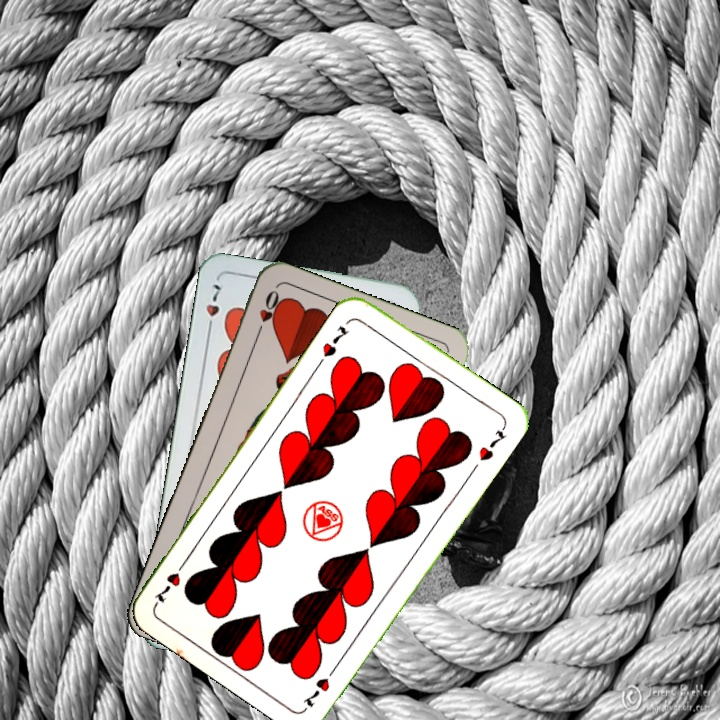H7: (298, 660, 341, 710), (318, 321, 351, 360), (201, 280, 223, 336)
HO: (251, 285, 284, 342)
